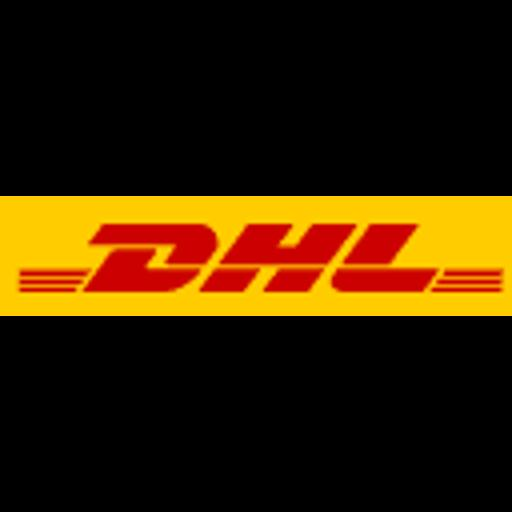DHL: (0, 196, 512, 316)
